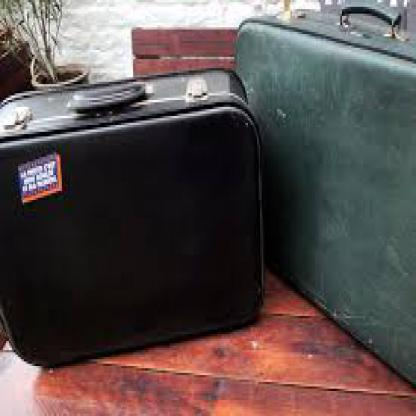maleta: (1, 55, 277, 375), (226, 2, 414, 398)
